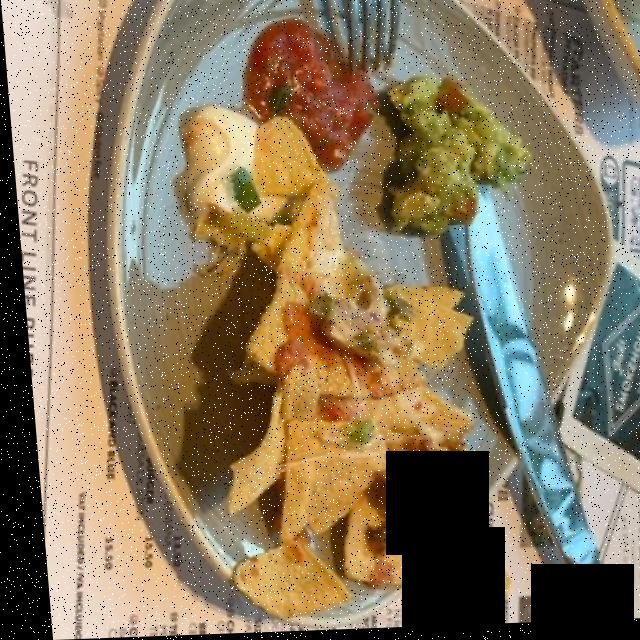corn-crisps: (213, 134, 502, 624)
guacamole: (379, 86, 523, 241)
mayonnaise: (190, 108, 271, 235)
mixed-vegetables: (305, 287, 456, 552)
tomato-sauce: (248, 25, 371, 169)
